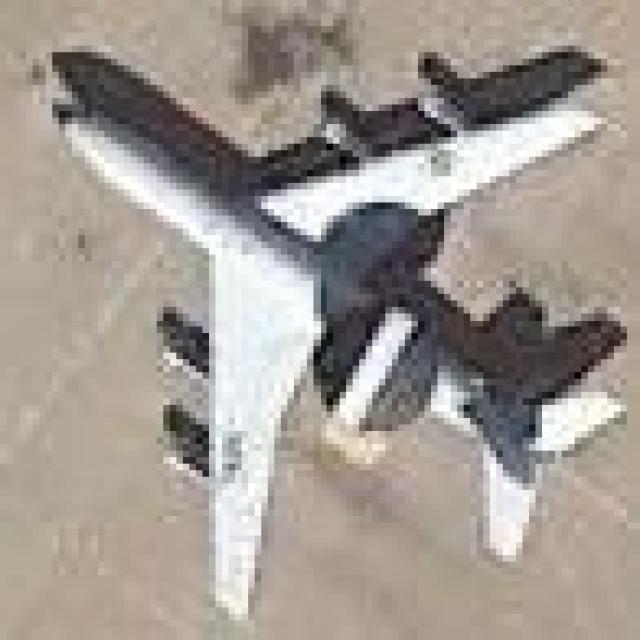E-3_TopDown: (33, 32, 627, 620)
